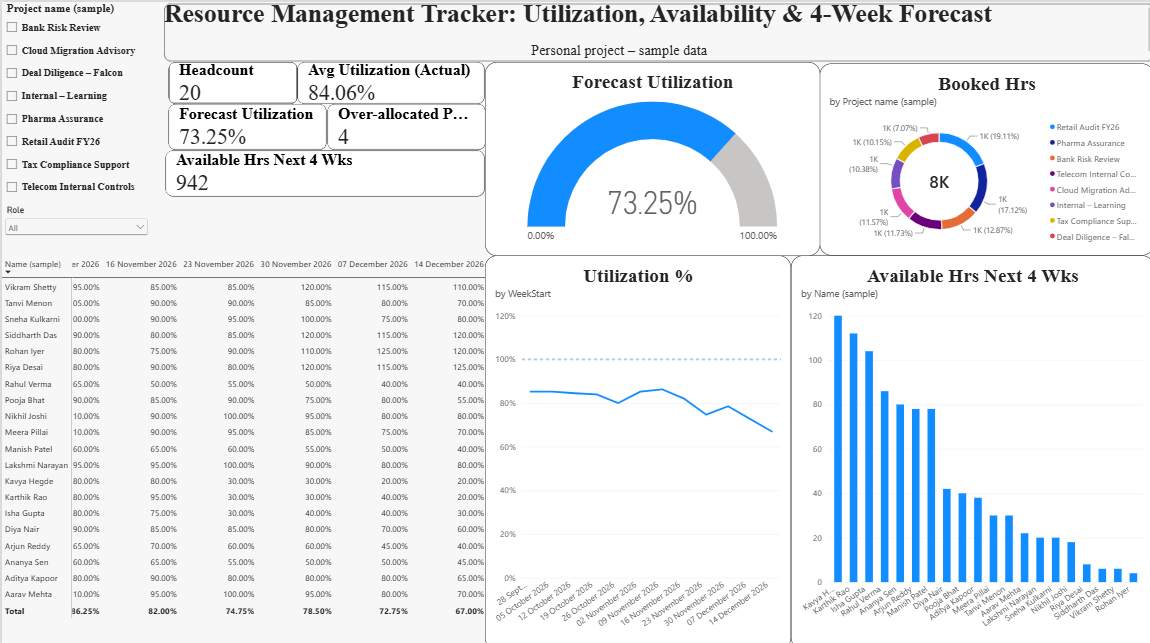

The dashboard page shown, as its layout file describes it:
{"tool":"powerbi","page":{"name":"Page 1","canvas":[1920,1080],"ordinal":0},"visuals":[{"type":"slicer","fields":{"Values":["Employees.Role"]},"box":[0,338.6,248.6,82.9],"z":0},{"type":"slicer","fields":{"Values":["Projects.Project name (sample)"]},"box":[0,0,248.6,338.6],"z":1},{"type":"pivotTable","fields":{"Columns":["tblSchedule.WeekStart.Variation.Date Hierarchy.Year","tblSchedule.WeekStart.Variation.Date Hierarchy.Quarter","tblSchedule.WeekStart.Variation.Date Hierarchy.Month","tblSchedule.WeekStart.Variation.Date Hierarchy.Day"],"Rows":["Employees.Name (sample)"],"Values":["Employees.Utilization %"]},"box":[0,420,268.6,660],"z":2},{"type":"lineChart","fields":{"Category":["tblSchedule.WeekStart.Variation.Date Hierarchy.Year","tblSchedule.WeekStart.Variation.Date Hierarchy.Quarter","tblSchedule.WeekStart.Variation.Date Hierarchy.Month","tblSchedule.WeekStart.Variation.Date Hierarchy.Day"],"Y":["Employees.Utilization %"]},"box":[270,423.3,796.7,656.7],"z":3},{"type":"clusteredColumnChart","fields":{"Category":["Employees.Name (sample)"],"Y":["Employees.Available Hrs Next 4 Wks"]},"box":[1070,423.3,850,656.7],"z":4},{"type":"textbox","box":[266.7,0,1653.3,123.3],"z":5},{"type":"textbox","box":[270,3.3,1650,96.7],"z":7},{"type":"cardVisual","fields":{"Data":["Employees.Headcount"]},"box":[270,63.3,143.3,106.7],"z":8},{"type":"cardVisual","fields":{"Data":["Employees.Avg Utilization (Actual)"]},"box":[413.3,63.3,223.3,106.7],"z":9},{"type":"cardVisual","fields":{"Data":["Employees.Forecast Utilization"]},"box":[636.7,63.3,270,106.7],"z":10},{"type":"cardVisual","fields":{"Data":["Employees.Over-allocated People"]},"box":[906.7,63.3,256.7,106.7],"z":11},{"type":"cardVisual","fields":{"Data":["Employees.Available Hrs Next 4 Wks"]},"box":[1163.3,63.3,286.7,106.7],"z":12},{"type":"donutChart","fields":{"Category":["Projects.Project name (sample)"],"Y":["Employees.Booked Hrs"]},"box":[1450,62.9,448.6,357.1],"z":13},{"type":"gauge","fields":{"Y":["Employees.Forecast Utilization"]},"box":[270,170,365.7,250],"z":14}]}

Visuals, with their boxes in screenshot pixels (x1, y1, x2, y2), scaled from the page's 1920x1080 canvas onto the 1150x643 screenshot:
slicer - Employees.Role: {"left": 0, "top": 202, "right": 149, "bottom": 251}
slicer - Projects.Project name (sample): {"left": 0, "top": 0, "right": 149, "bottom": 202}
pivotTable - tblSchedule.WeekStart.Variation.Date Hierarchy.Year x tblSchedule.WeekStart.Variation.Date Hierarchy.Quarter: {"left": 0, "top": 250, "right": 161, "bottom": 642}
lineChart - tblSchedule.WeekStart.Variation.Date Hierarchy.Year x tblSchedule.WeekStart.Variation.Date Hierarchy.Quarter: {"left": 162, "top": 252, "right": 639, "bottom": 642}
clusteredColumnChart - Employees.Name (sample) x Employees.Available Hrs Next 4 Wks: {"left": 641, "top": 252, "right": 1149, "bottom": 642}
textbox: {"left": 160, "top": 0, "right": 1149, "bottom": 73}
textbox: {"left": 162, "top": 2, "right": 1149, "bottom": 60}
cardVisual - Employees.Headcount: {"left": 162, "top": 38, "right": 248, "bottom": 101}
cardVisual - Employees.Avg Utilization (Actual): {"left": 248, "top": 38, "right": 381, "bottom": 101}
cardVisual - Employees.Forecast Utilization: {"left": 381, "top": 38, "right": 543, "bottom": 101}
cardVisual - Employees.Over-allocated People: {"left": 543, "top": 38, "right": 697, "bottom": 101}
cardVisual - Employees.Available Hrs Next 4 Wks: {"left": 697, "top": 38, "right": 868, "bottom": 101}
donutChart - Projects.Project name (sample) x Employees.Booked Hrs: {"left": 868, "top": 37, "right": 1137, "bottom": 250}
gauge - Employees.Forecast Utilization: {"left": 162, "top": 101, "right": 381, "bottom": 250}
